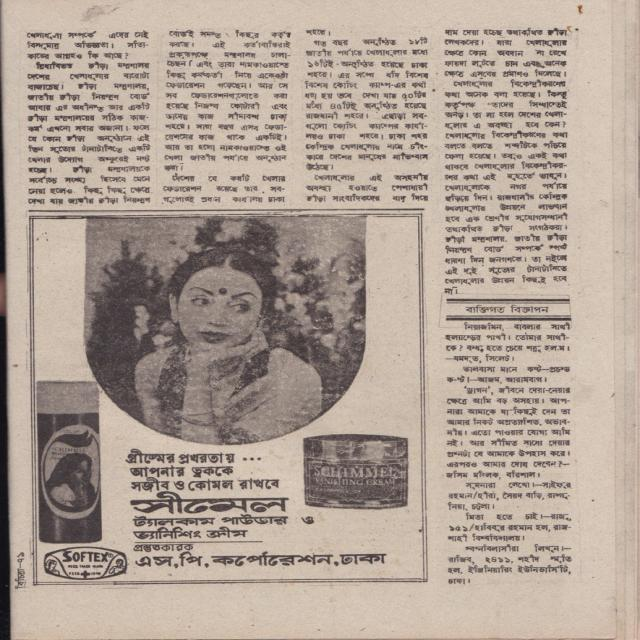advertisement: (28, 211, 429, 592)
page number: (12, 549, 30, 565)
paragraph: (438, 23, 575, 301), (160, 27, 295, 174), (22, 60, 156, 208), (301, 36, 433, 174), (436, 384, 579, 482), (441, 317, 576, 366), (443, 543, 578, 590), (298, 170, 434, 206), (156, 171, 291, 205), (22, 27, 153, 62), (443, 479, 575, 513), (442, 510, 578, 543), (438, 363, 576, 386)
text: (13, 568, 29, 593), (303, 25, 330, 37)
title: (451, 301, 567, 318)
